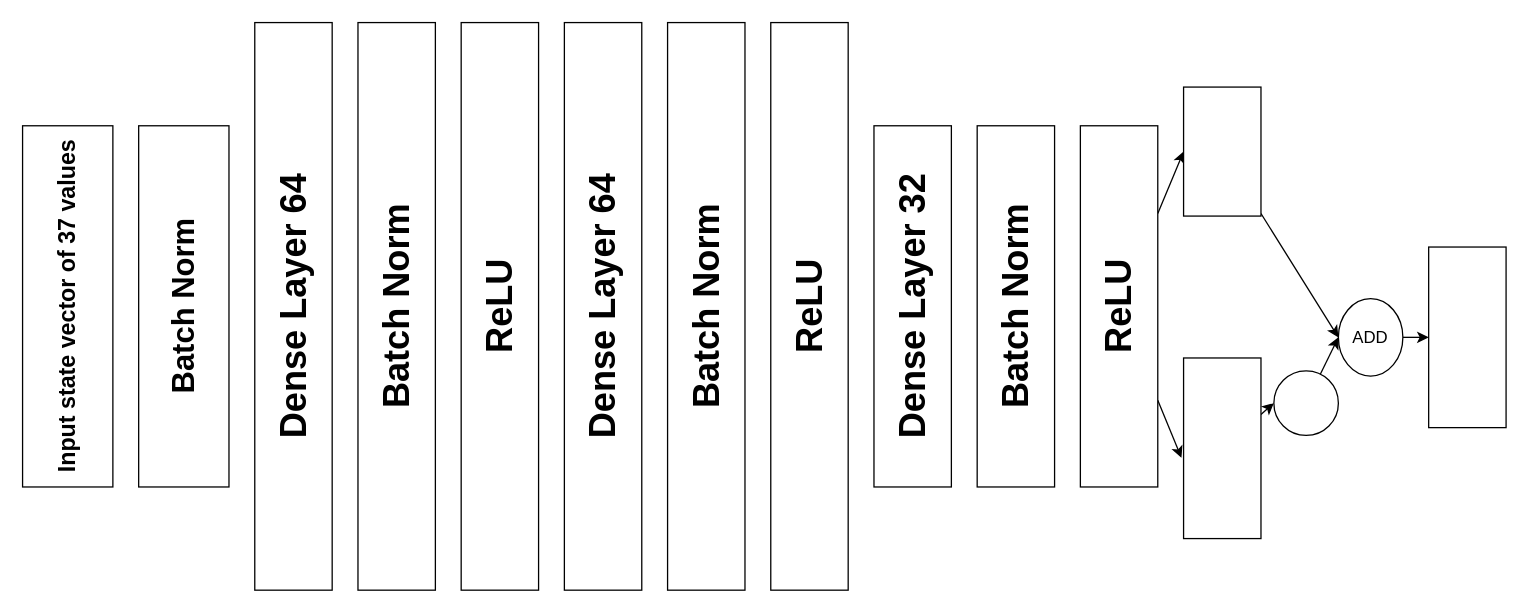
Image size: 1529x613. Some labels were removed from this diagram. Each missing label, with the centre of its shape:
"Dense Layer 1 for State's Value" belongs at point (1221, 151).
"Dense Layer 4 for Actions' Advantage" belongs at point (1221, 448).
"Output 4 actions' values" belongs at point (1466, 337).
"Subtract Mean" belongs at point (1305, 402).
